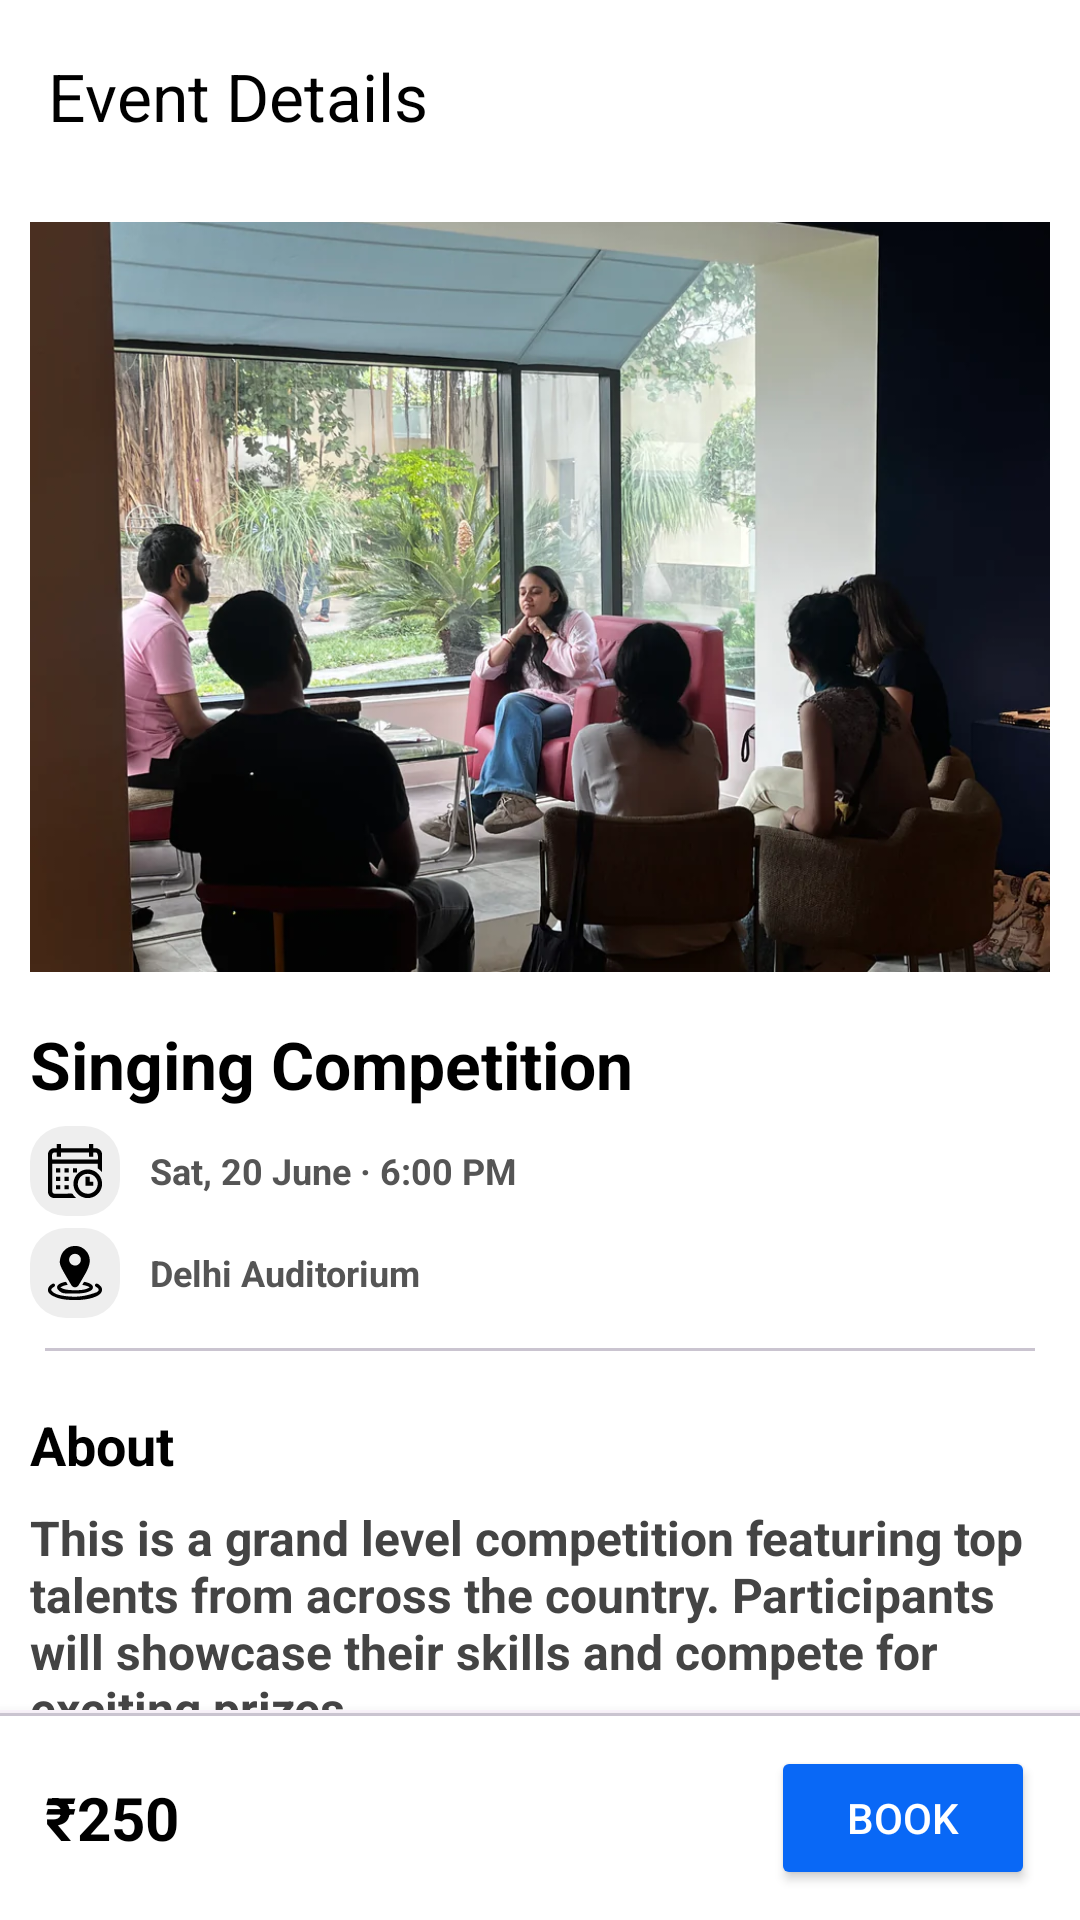

Icon bounding boxes for this 1080*1920 phone screenshot, format (x1=x1, y1=y1, x2=x2, y2=y2):
calendar: (x1=48, y1=1144, x2=102, y2=1198)
location: (x1=48, y1=1246, x2=102, y2=1300)
